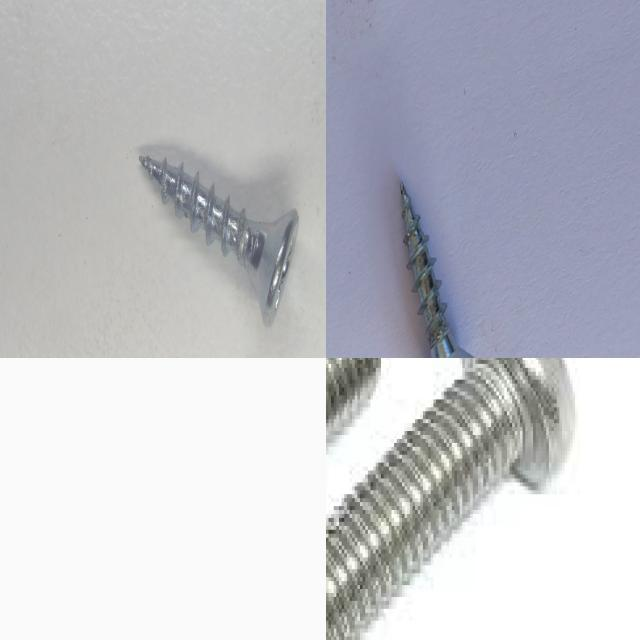Screw: (326, 358, 578, 640), (139, 155, 299, 325), (400, 181, 475, 358)
